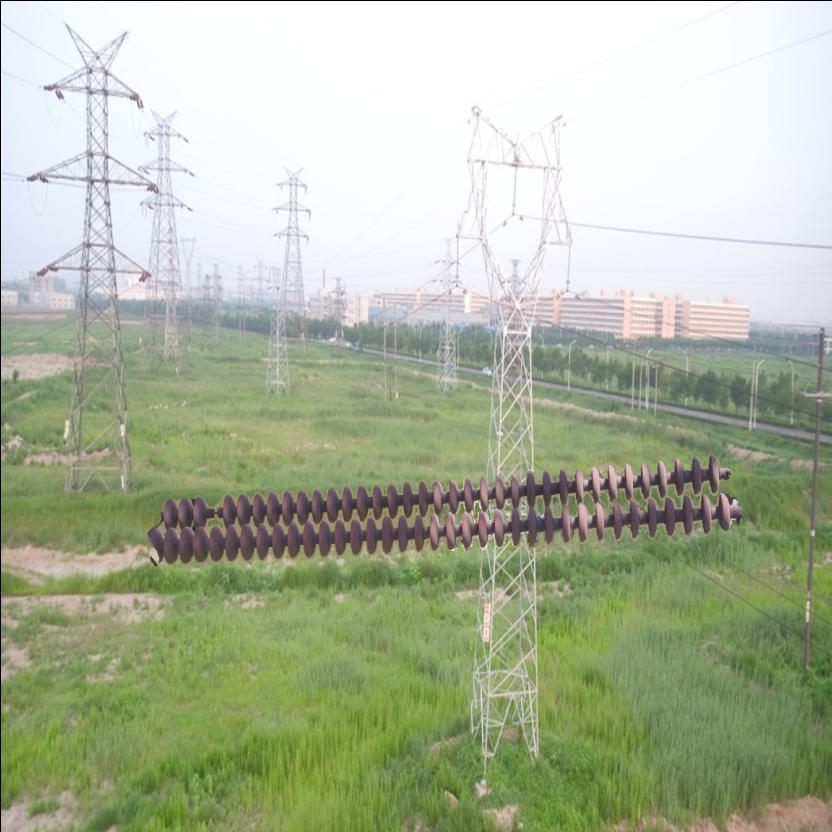defect: (192, 492, 240, 526)
